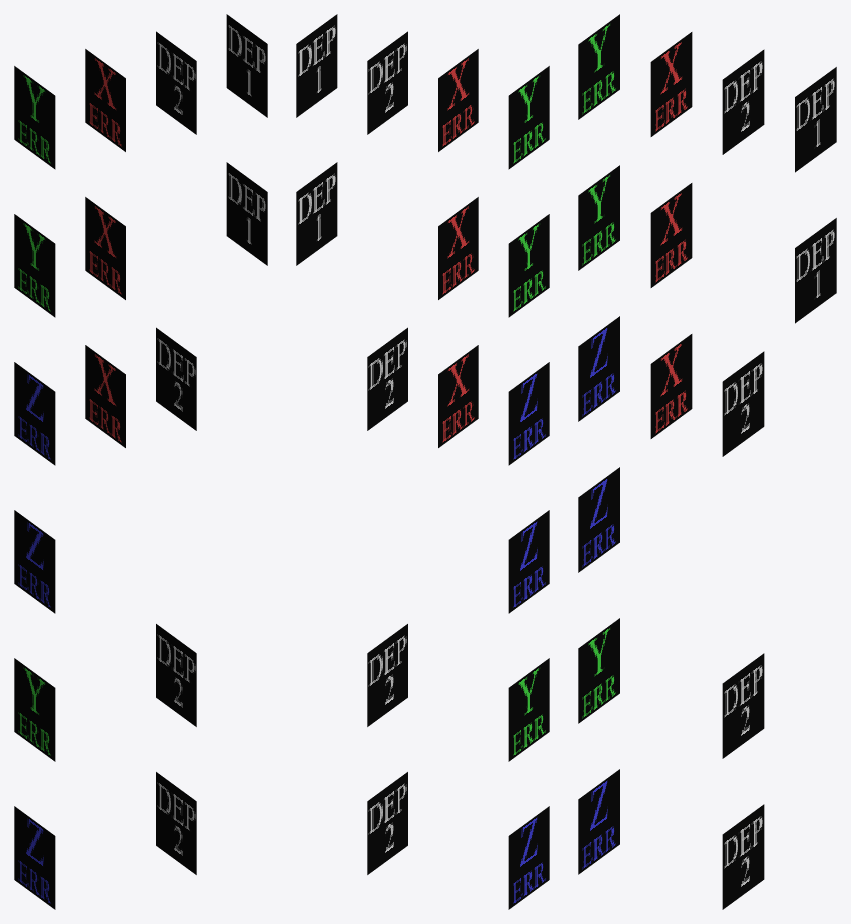
The model's file is noise_gates_1.gltf.
3 views of the same model, side by side, from view 1: azimuth 30°, elevation 25°; view 2: azimuth 150°, elevation 25°; view 3: azimuth 330°, elevation 25° (orthographic).
Bounding box in the file's own units: 3 × 11 × 1.
Materials: 1 (1 with a texture image).
